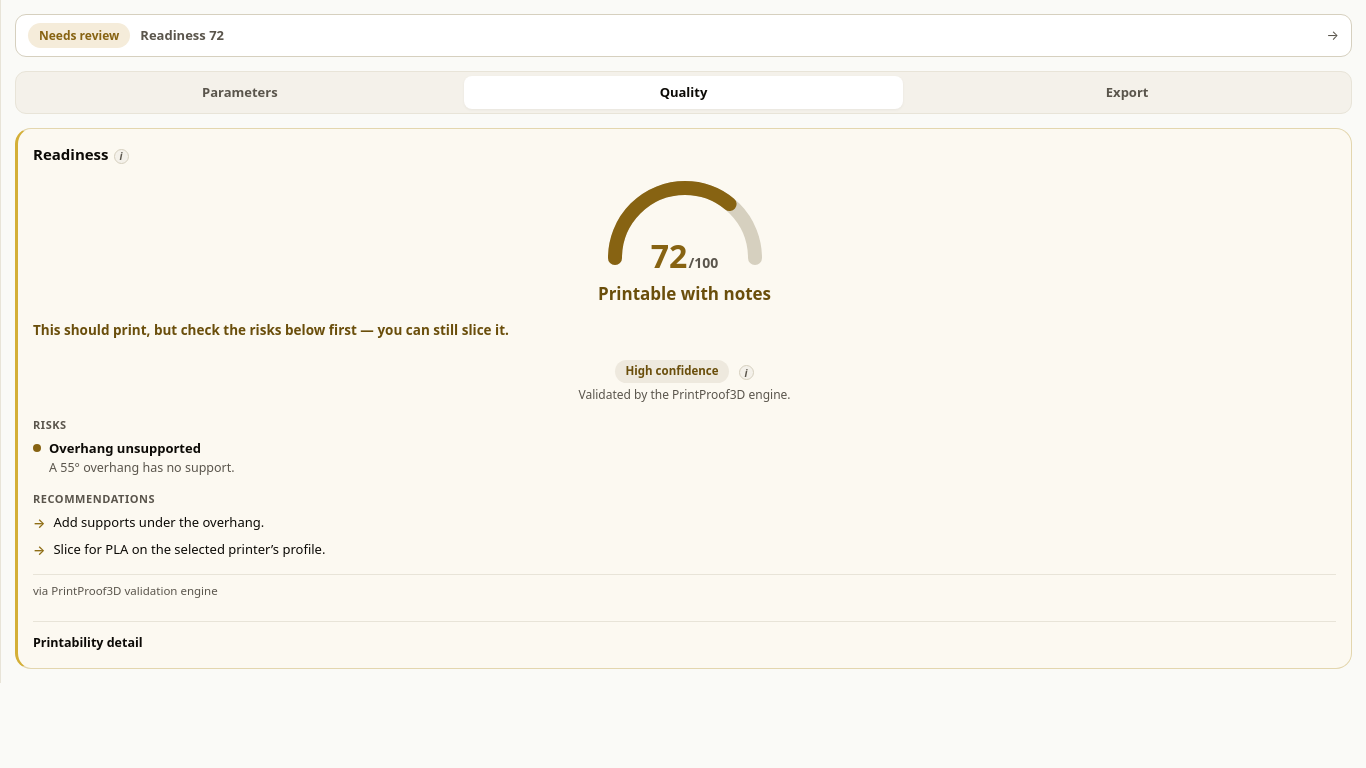
Test: RightPanel help tips (Slice 9 MS-2) › clicking a card tip reveals its plain-language definition inline
What coordinates should you click on to do the following:
click the 1st button "i"
I would click on:
 (121, 156)
Its box is [114,149,128,164].
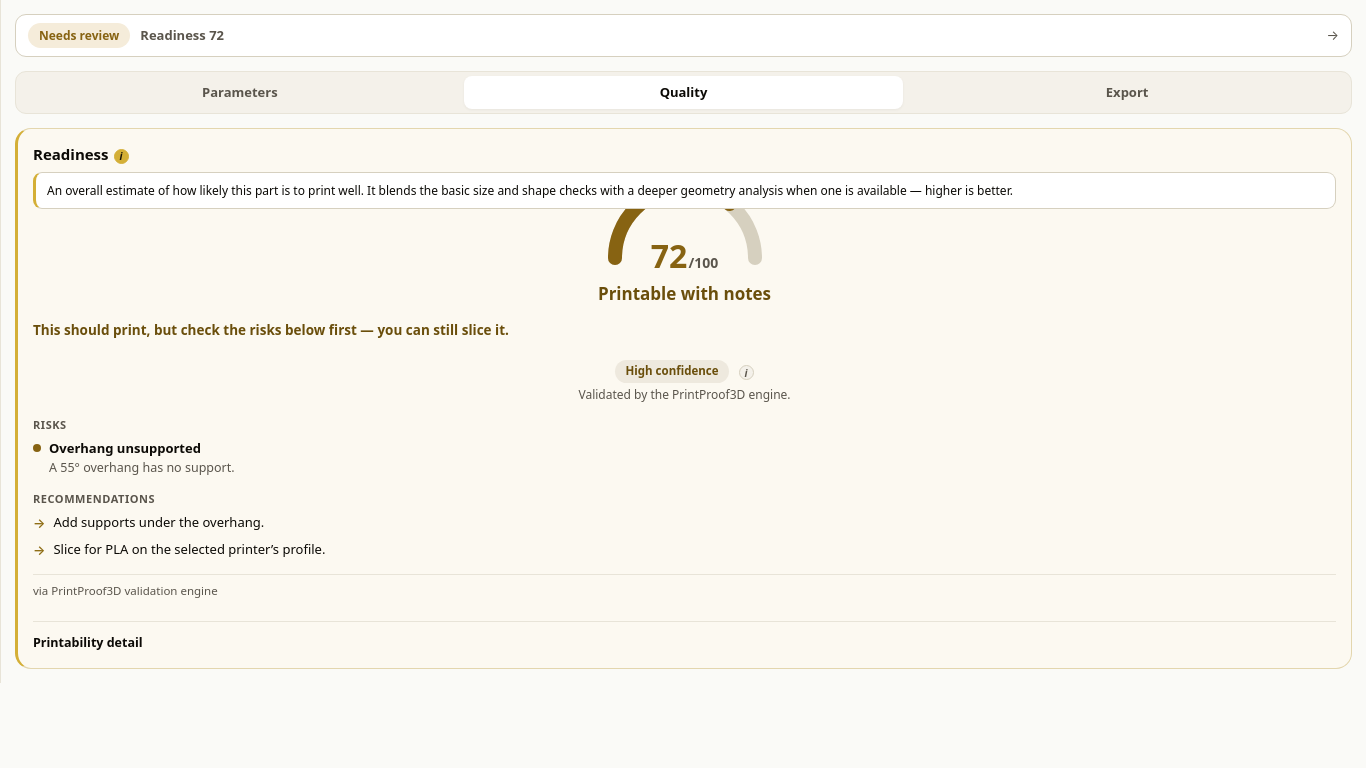
Expected: the text "print" is shown, [47,182,1013,199]
